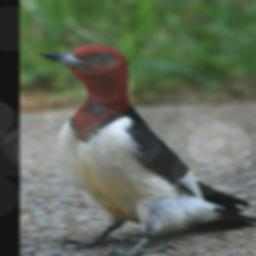Woodpecker: (33, 43, 256, 256)
